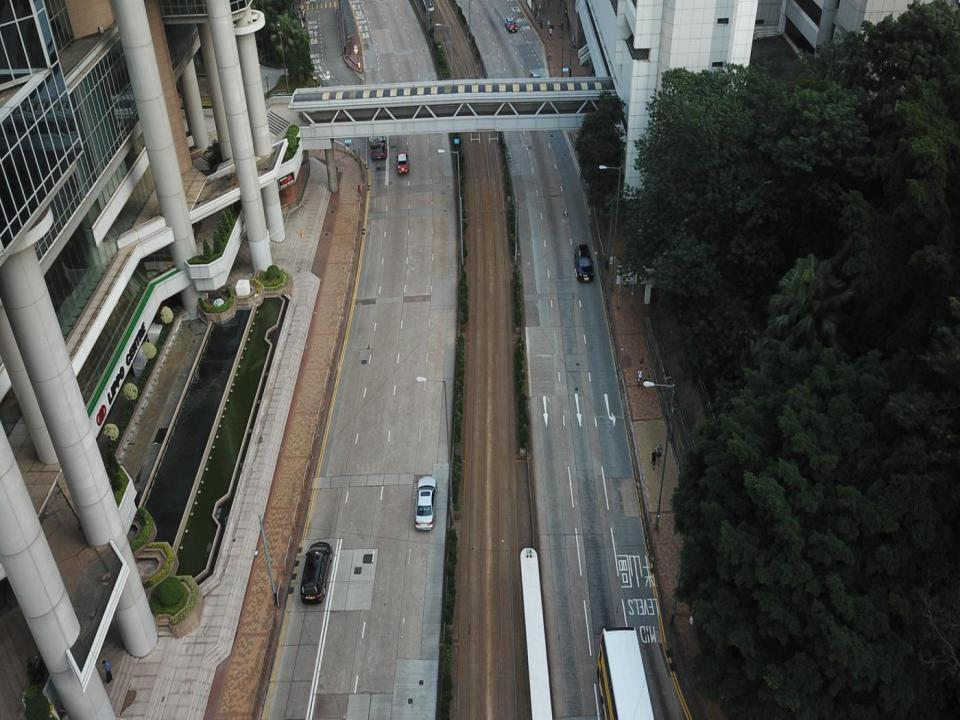bus: (593, 623, 652, 719), (365, 108, 391, 161)
car: (300, 541, 331, 607), (413, 472, 437, 532), (572, 242, 594, 282), (502, 14, 518, 34), (395, 150, 408, 174)
